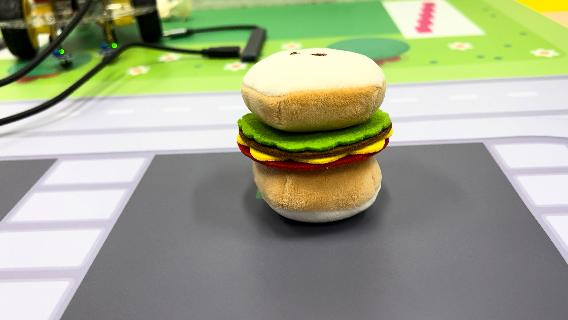sandwich: (235, 46, 395, 224)
